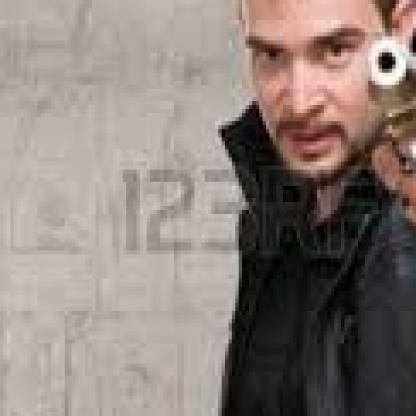gun: (368, 32, 413, 275)
